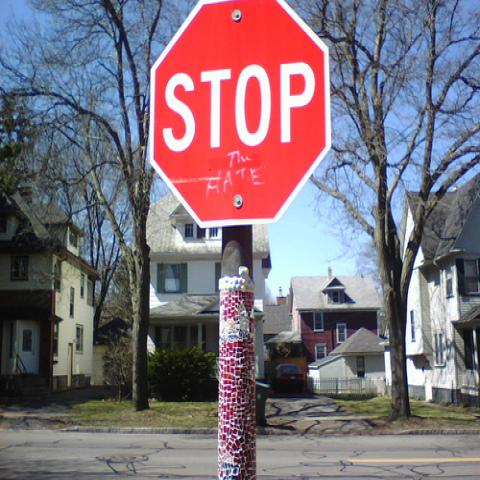car: (272, 364, 306, 398)
